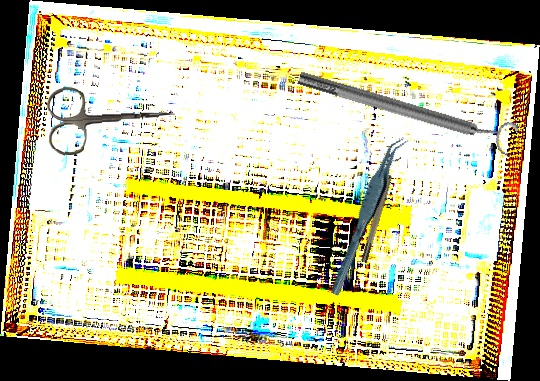Fixation Ring: (294, 58, 520, 160), (355, 153, 401, 264)
Iris Scissors: (46, 80, 177, 157)
Tissue Forceps: (312, 133, 422, 297)
